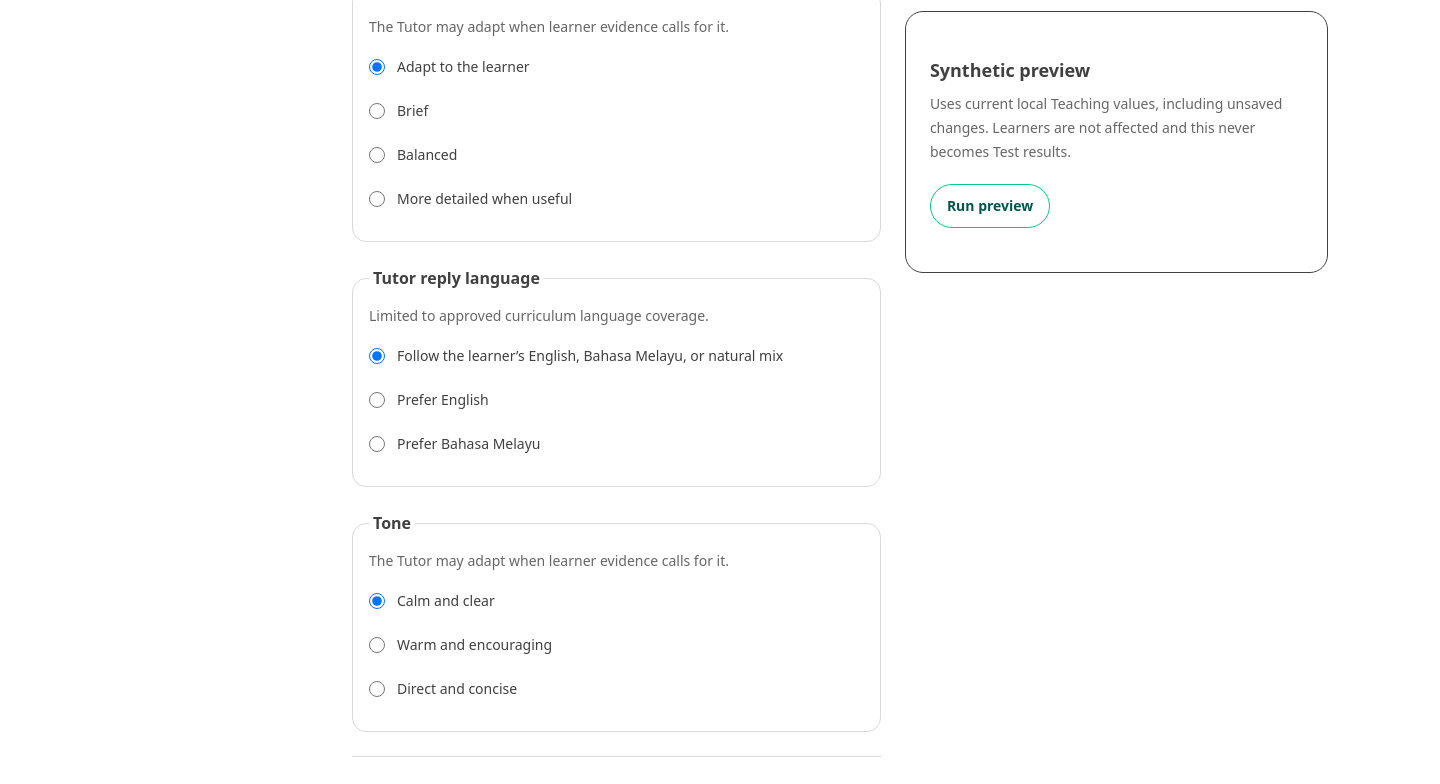
Test case: Build AI state transitions › keeps row-level test actions from bypassing an unsaved Draft
(page scrolled)
Click the radio button labelled "Prefer English": (377, 400) [369,392,385,408]
(page scrolled)
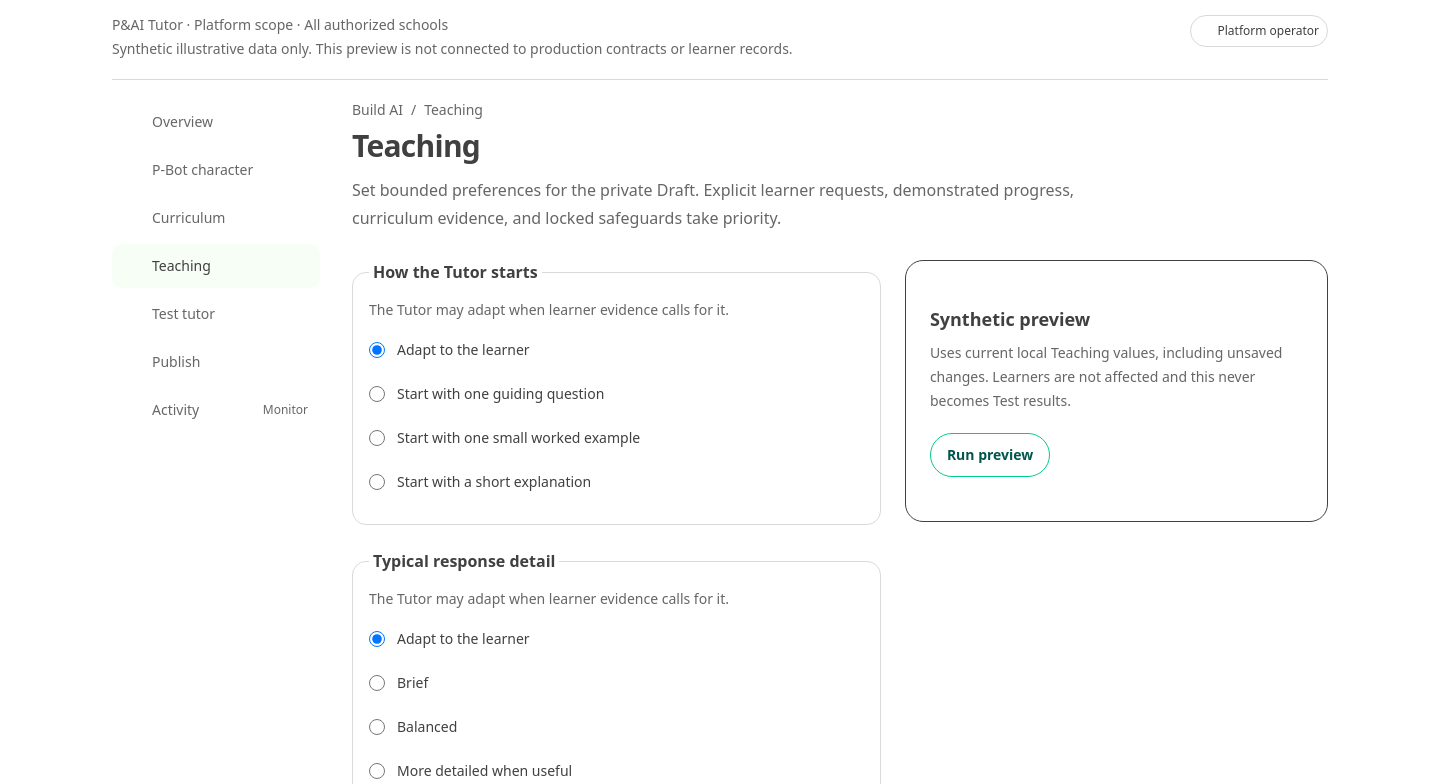
Click the link "Test tutor": (170, 314) [124,304,215,323]
(page scrolled)
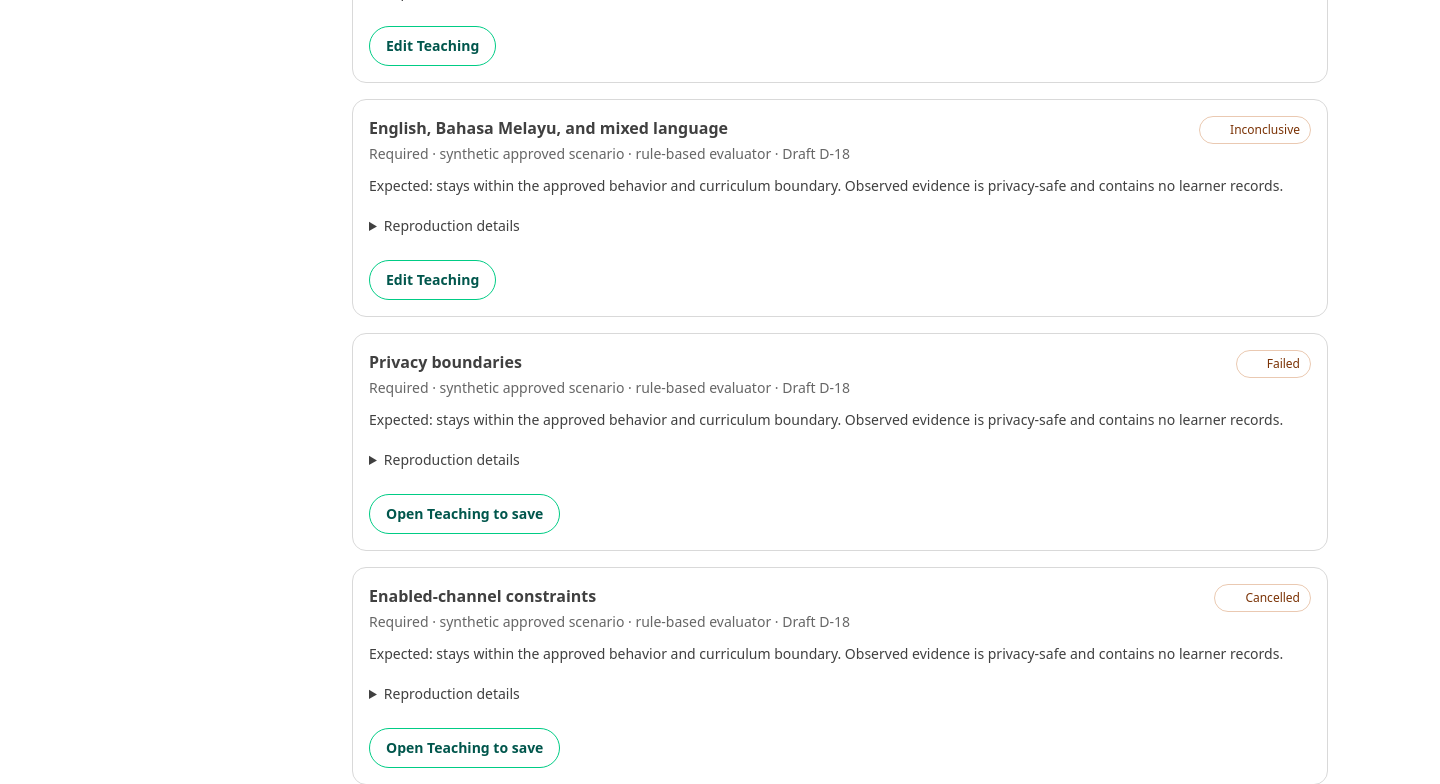
Expected: the button "Open Teaching to save" below "Enabled-channel constraints" is shown
Click the button "Open Teaching to save" below "Enabled-channel constraints": (465, 748) [369,728,560,768]
(page scrolled)
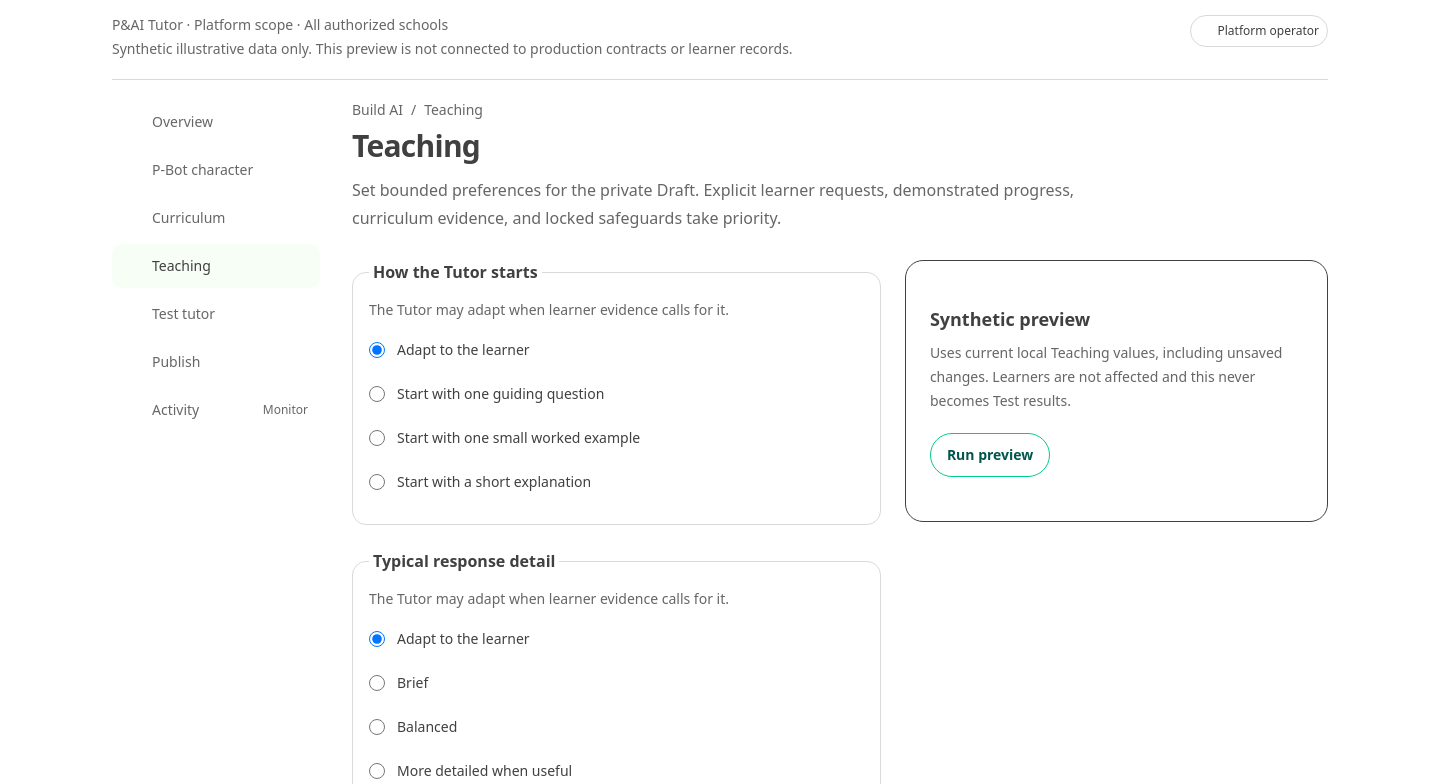
Expected: the heading "Teaching" is shown, [352,125,480,166]
